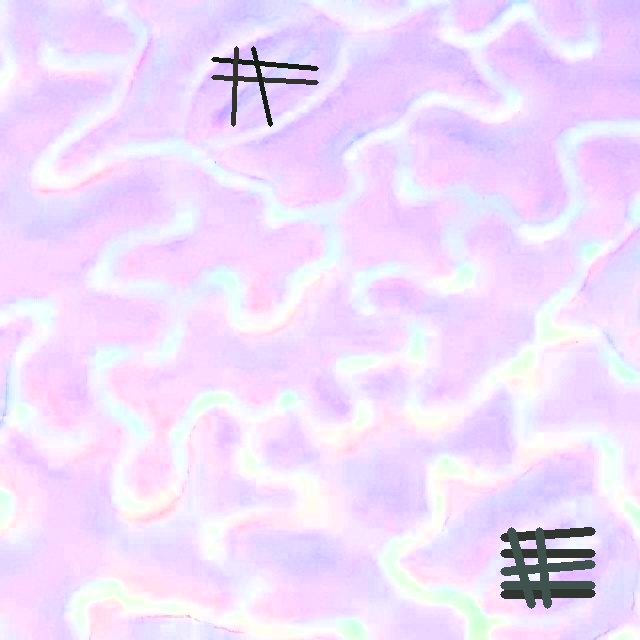open: (211, 46, 318, 126), (500, 527, 595, 608)
